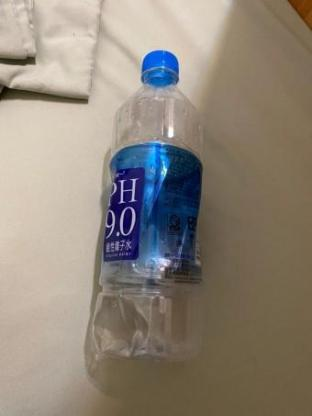Plastic Bottle: (64, 37, 232, 391)
